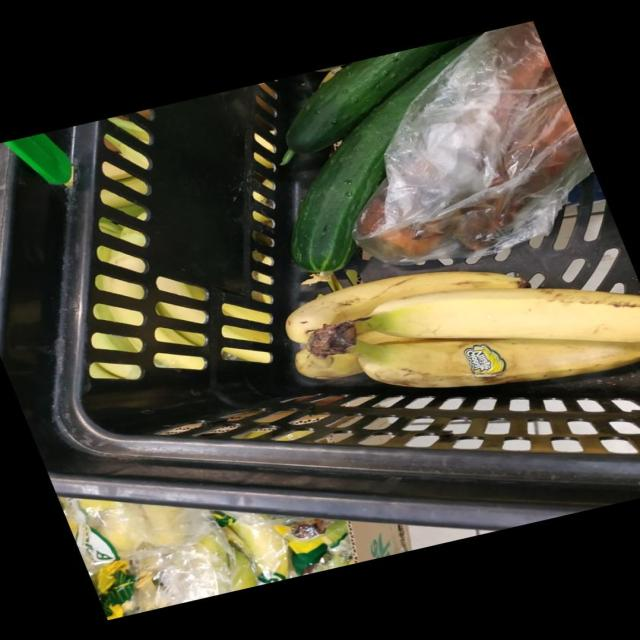Banana: (285, 270, 525, 343), (336, 287, 640, 341), (348, 338, 640, 387), (295, 348, 362, 378), (357, 330, 414, 344)
Cucumber: (291, 41, 472, 272), (286, 32, 482, 153)
